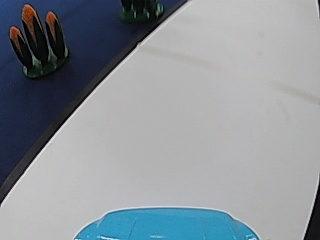corn: (8, 2, 69, 77), (118, 0, 163, 23)
